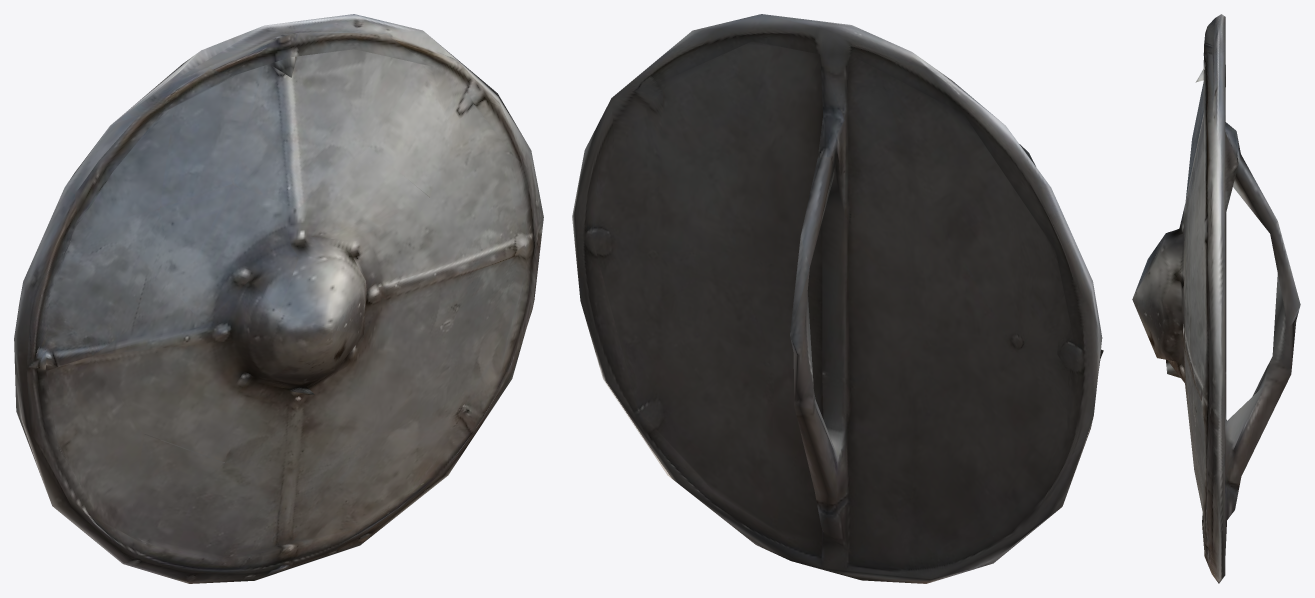
The model's file is puklerz.glb.
The picture shows the model from 3 angles, left to right: view 1: azimuth 30°, elevation 25°; view 2: azimuth 150°, elevation 25°; view 3: azimuth 270°, elevation 25°; orthographic projection. The views are drawn at different scales.
Parts seen in each view (by area): view 1: tripo_node_7f825811-bd56-4eea-8ebe-e2fd70ff8963; view 2: tripo_node_7f825811-bd56-4eea-8ebe-e2fd70ff8963; view 3: tripo_node_7f825811-bd56-4eea-8ebe-e2fd70ff8963.
Boxes of the visible parts, x1,y1,x2,y2 form: tripo_node_7f825811-bd56-4eea-8ebe-e2fd70ff8963: (14,14,543,583); tripo_node_7f825811-bd56-4eea-8ebe-e2fd70ff8963: (572,14,1103,583); tripo_node_7f825811-bd56-4eea-8ebe-e2fd70ff8963: (1132,14,1300,583).
Size of the model in its own units: 1.01 by 1 by 0.2959.
1 material, 1 textured.
